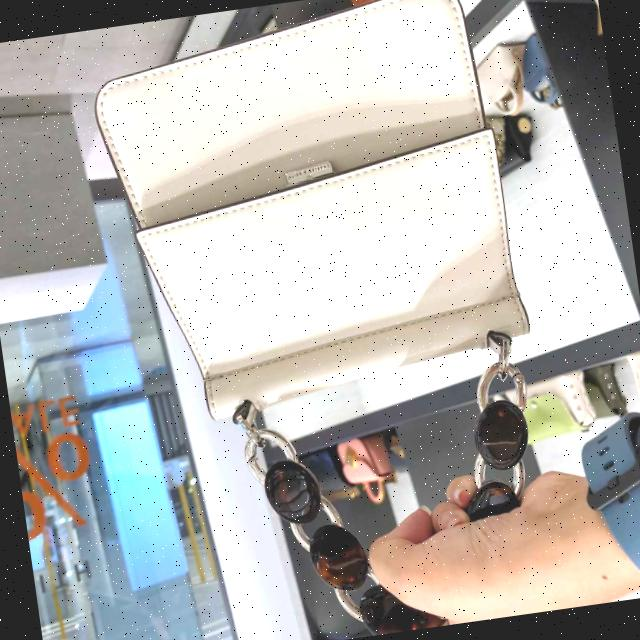Handbag: (100, 0, 552, 471)
